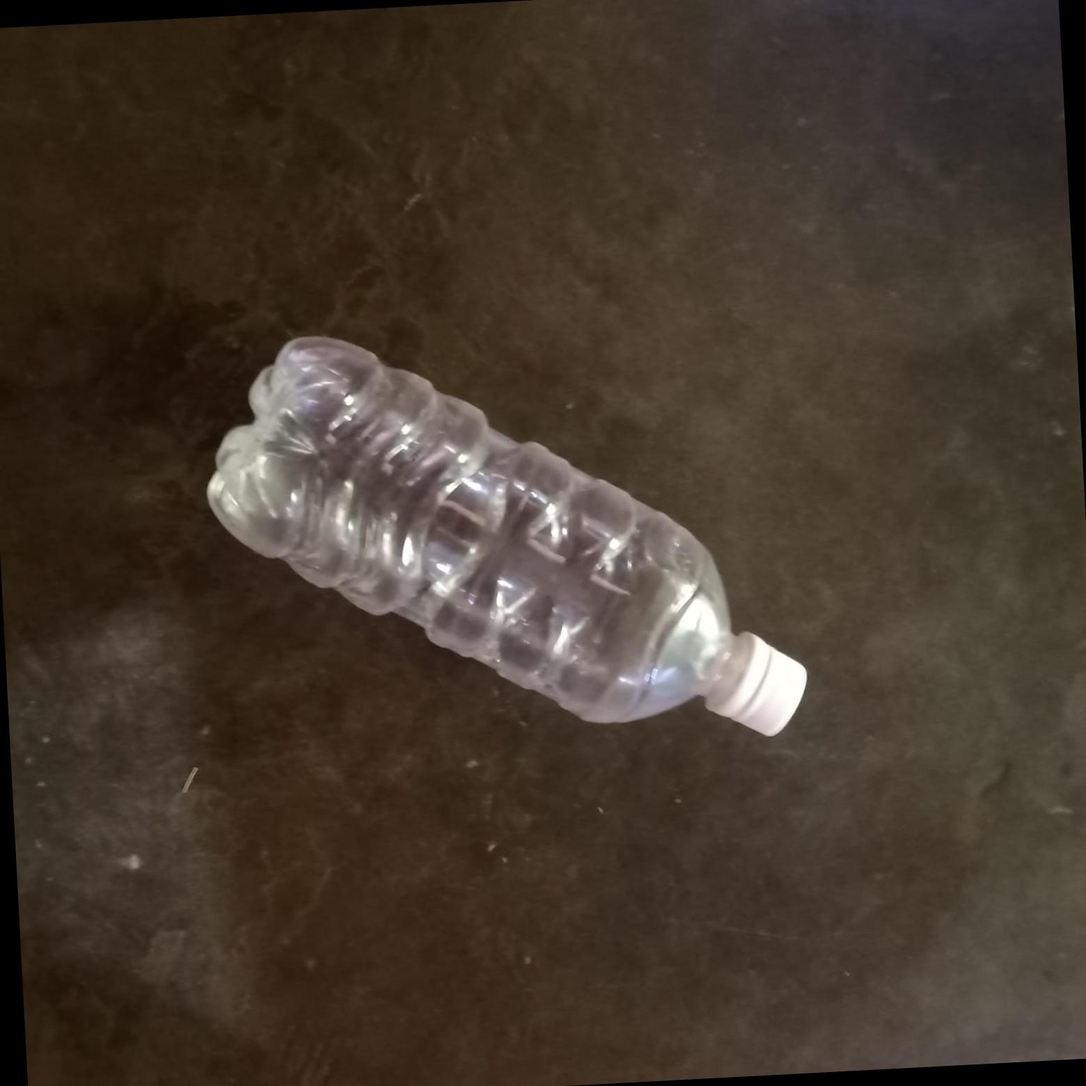Plastik: (195, 307, 812, 768)
